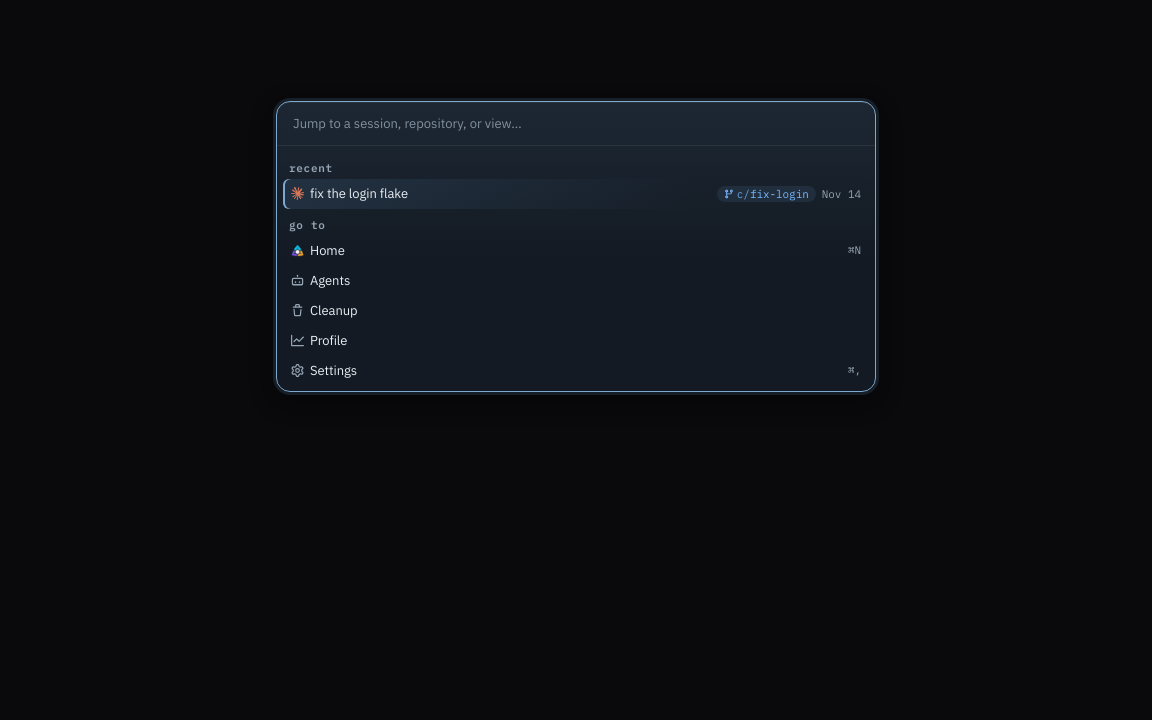
Test case: CommandPalette › states the overflow instead of silently capping results
Type "flake" into the dropdown at (582, 124), box [289, 102, 875, 145]
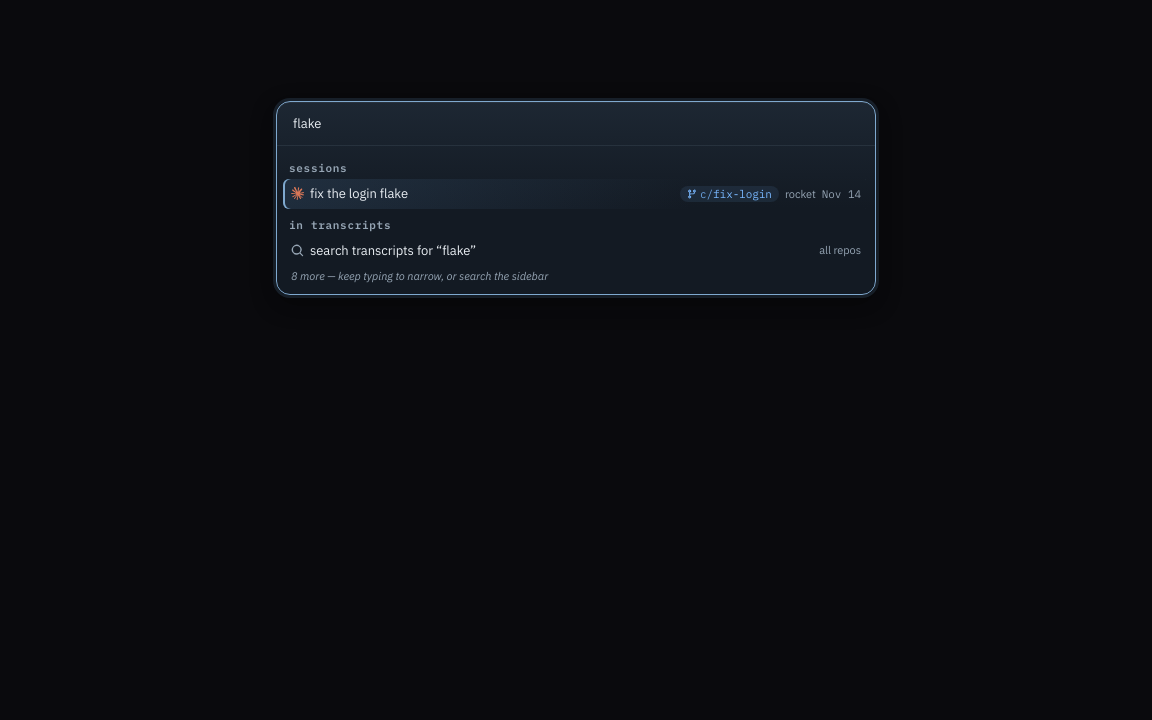
Expected: the text "8 more — keep typing to narrow, or search the sidebar" is shown, [291, 269, 548, 283]
